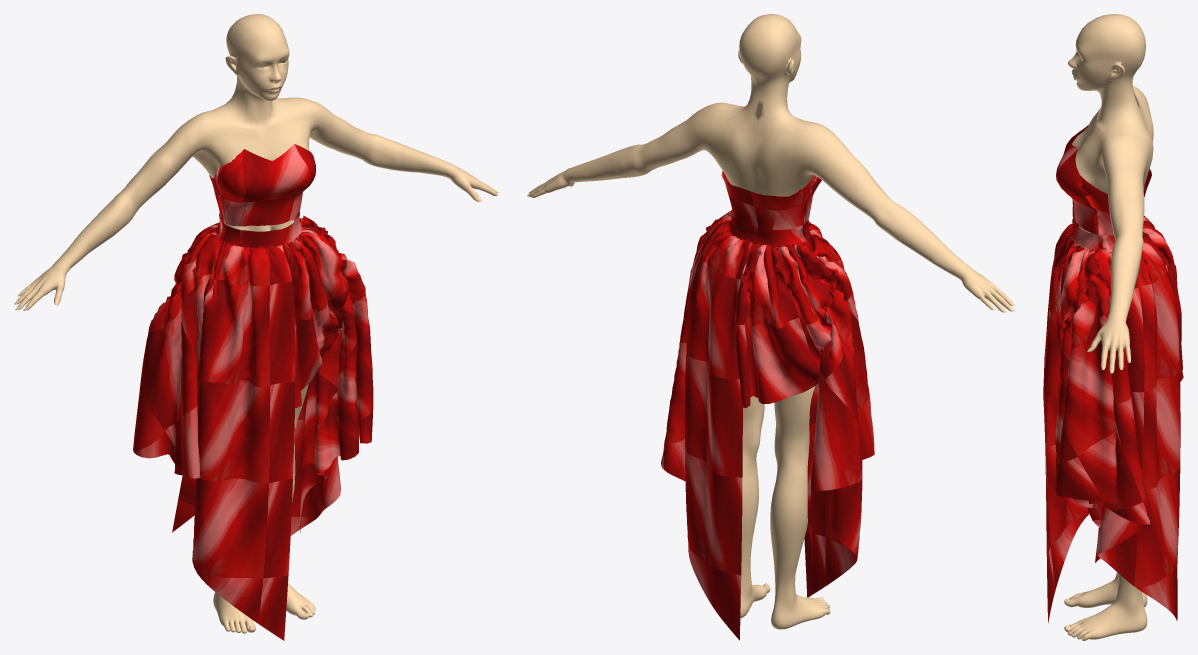
Rendered from dress2.glb.
3 renders of one model, left to right at view 1: azimuth 30°, elevation 25°; view 2: azimuth 150°, elevation 25°; view 3: azimuth 270°, elevation 25°, orthographic.
Parts seen in each view (by area): view 1: Project 1, Body; view 2: Project 1, Body; view 3: Project 1, Body.
Part boxes in pixels (x1,y1,x2,y2): Project 1: (133,144,373,640); Body: (16,14,498,633); Project 1: (661,171,874,640); Body: (528,14,1011,629); Project 1: (1043,125,1183,622); Body: (1064,14,1153,640).
Size of the model in its own units: 1.58 by 1.87 by 0.3896.
2 materials, 1 textured.
